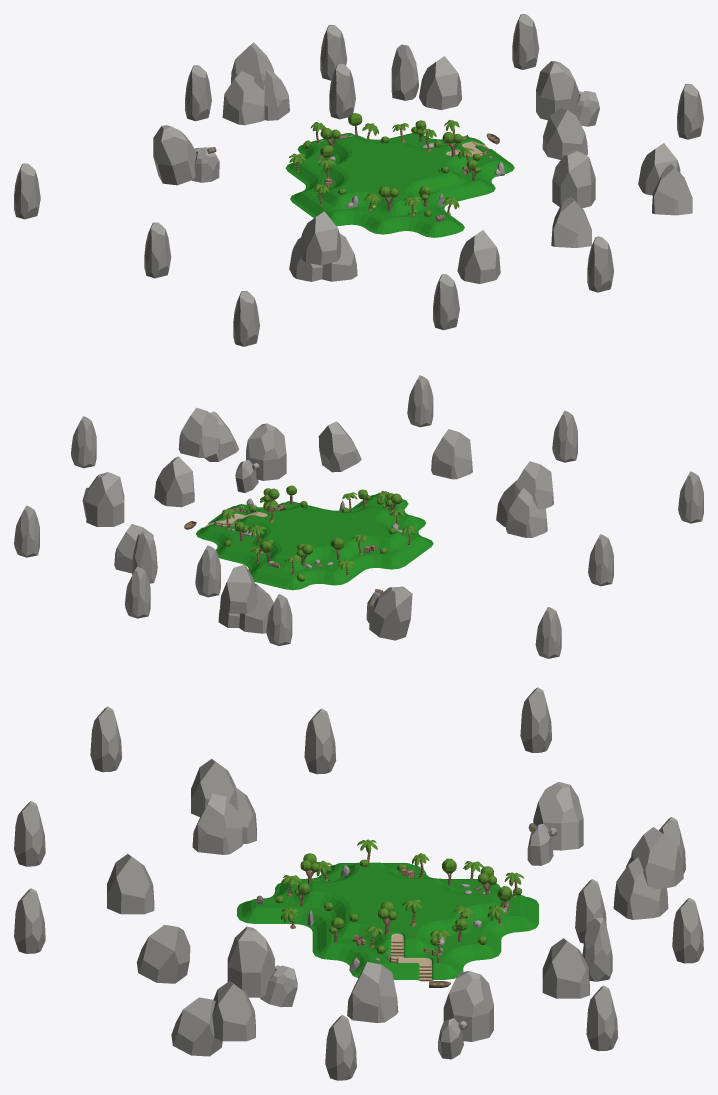
File: island.glb
The picture shows the model from 3 angles, top to bottom: view 1: azimuth 30°, elevation 25°; view 2: azimuth 150°, elevation 25°; view 3: azimuth 270°, elevation 25°; orthographic projection. The views are drawn at different scales.
Parts seen in each view (by area): view 1: Mountain_4 (×12), Shared_Prop_Boulder_2 (×11), Mountain_1 (×3), Mountain_2 (×2), Hilly_Terrain_Hill_Corner_Inner_4x4 (×2); view 2: Mountain_4 (×11), Shared_Prop_Boulder_2 (×11), Mountain_1 (×3), Hilly_Terrain_Hill_Corner_Inner_4x4 (×2), Mountain_2; view 3: Mountain_4 (×11), Shared_Prop_Boulder_2 (×10), Mountain_1 (×3), Hilly_Terrain_Hill_Corner_Inner_4x4 (×5), Mountain_2 (×3).
Part boxes in pixels (box(x1,y1,x2,y2)): Mountain_4 (×12): box(222, 42, 692, 283); Shared_Prop_Boulder_2 (×11): box(14, 14, 703, 346); Mountain_1 (×3): box(153, 61, 595, 208); Mountain_2 (×2): box(192, 91, 599, 182); Hilly_Terrain_Hill_Corner_Inner_4x4 (×2): box(335, 206, 434, 234); Mountain_4 (×11): box(114, 407, 553, 633); Shared_Prop_Boulder_2 (×11): box(14, 375, 703, 658); Mountain_1 (×3): box(86, 423, 412, 640); Hilly_Terrain_Hill_Corner_Inner_4x4 (×2): box(293, 551, 391, 586); Mountain_2: box(235, 460, 258, 492); Mountain_4 (×11): box(107, 759, 683, 1056); Shared_Prop_Boulder_2 (×10): box(14, 687, 703, 1080); Mountain_1 (×3): box(227, 782, 583, 1041); Hilly_Terrain_Hill_Corner_Inner_4x4 (×5): box(293, 891, 519, 967); Mountain_2 (×3): box(260, 823, 553, 1059).
Size of the model in its own units: 85.52 by 11.06 by 73.17.
